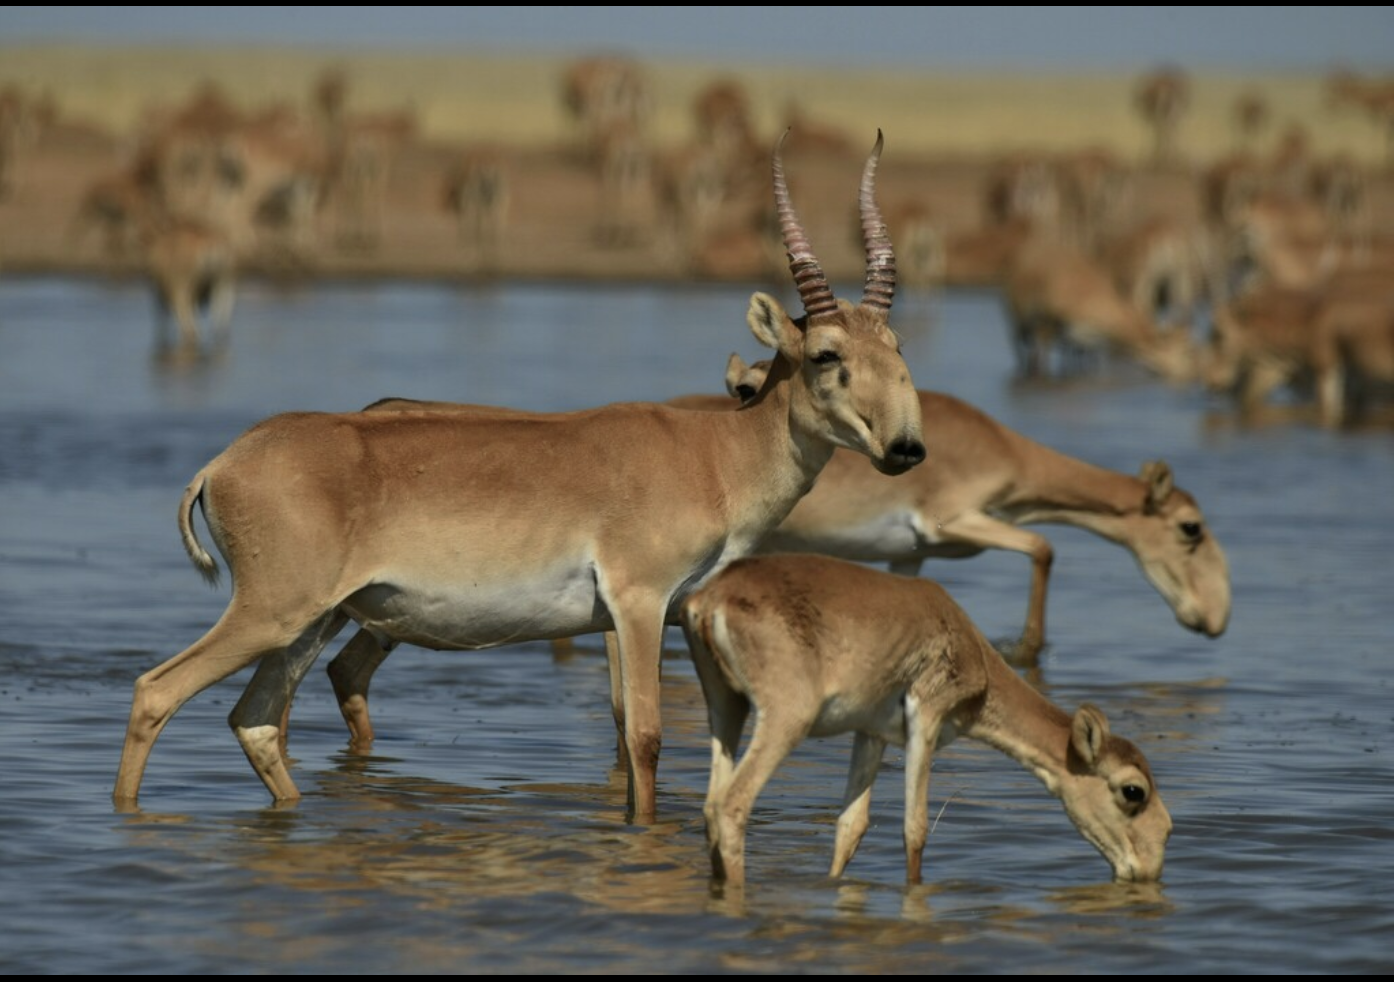saiga: (119, 134, 922, 863)
